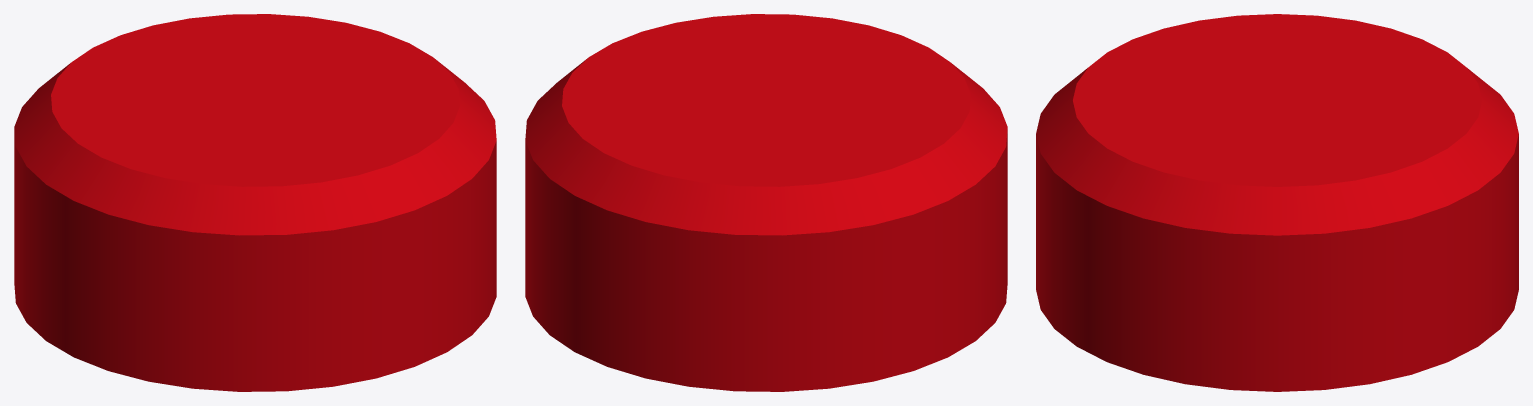
File: 01-Gauge-Pin.fbx
The picture shows the model from 3 angles, left to right: view 1: azimuth 30°, elevation 25°; view 2: azimuth 150°, elevation 25°; view 3: azimuth 270°, elevation 25°; orthographic projection.
Parts seen in each view (by area): view 1: 01-Gauge-Pin.001; view 2: 01-Gauge-Pin.001; view 3: 01-Gauge-Pin.001.
Boxes of the visible parts, <box> form: 01-Gauge-Pin.001: <box>14,14,496,391</box>; 01-Gauge-Pin.001: <box>525,14,1007,391</box>; 01-Gauge-Pin.001: <box>1036,14,1518,391</box>.
Bounding box in the file's own units: 15.26 × 6.61 × 15.26.
